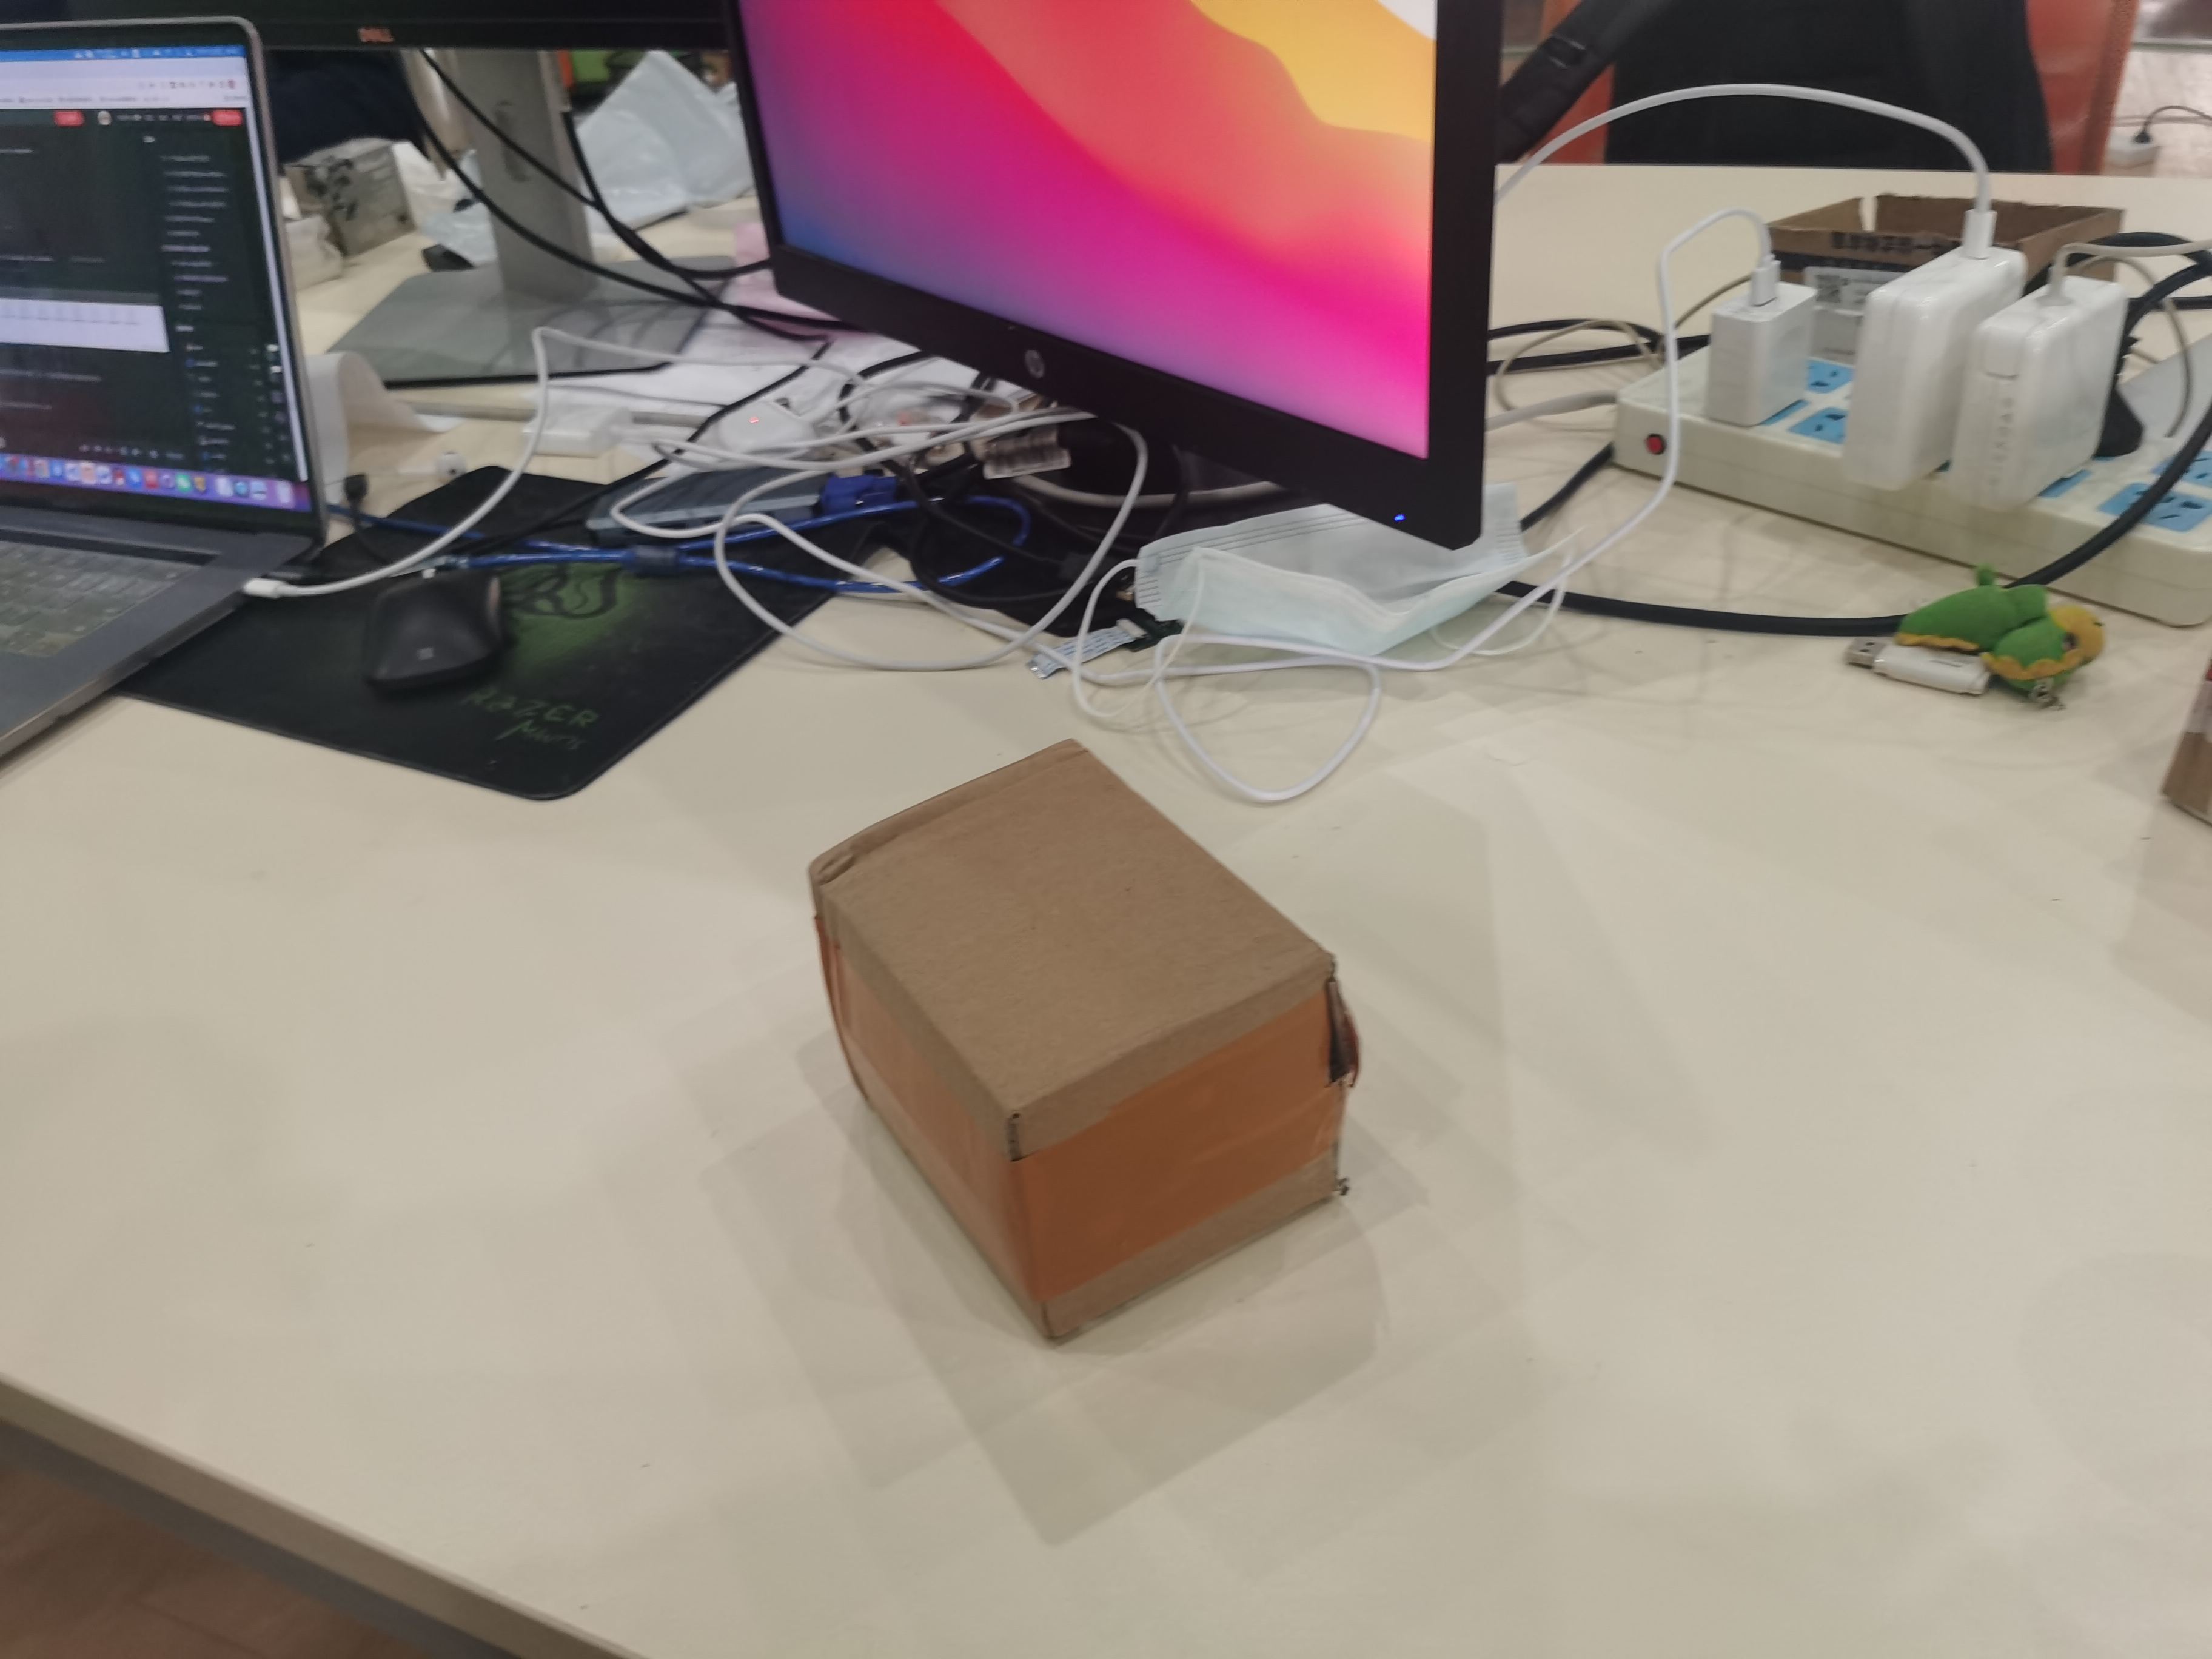box: (810, 737, 1362, 1356)
